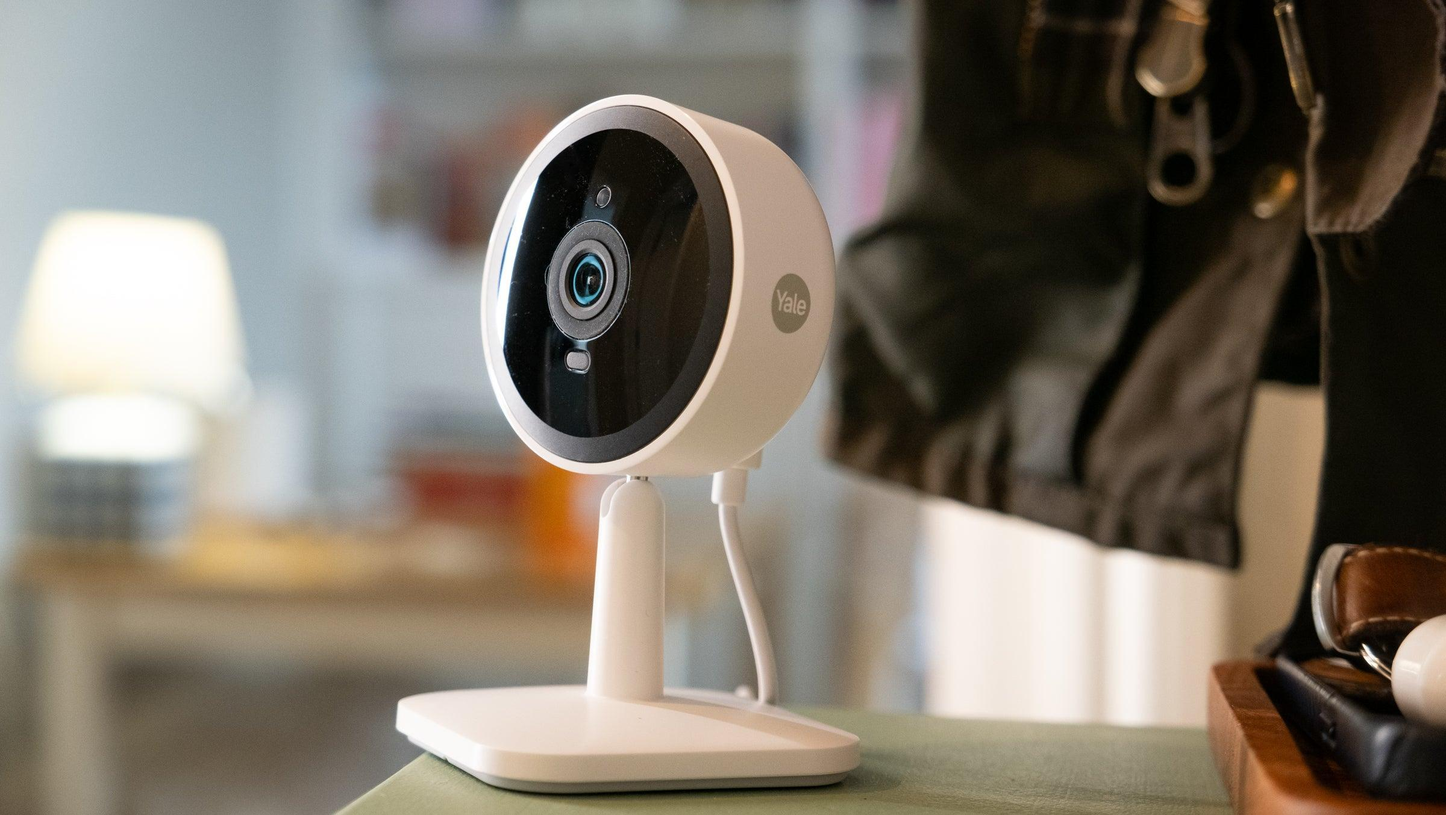camera: (404, 36, 890, 548)
